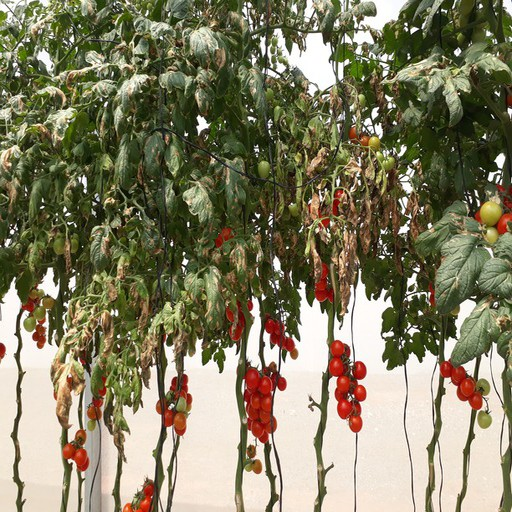dry leaves: (302, 135, 395, 299), (56, 298, 113, 428)
mixed tomato bunch: (23, 288, 56, 350), (159, 375, 192, 436)
red tomato bunch: (325, 341, 368, 434), (241, 364, 284, 444), (463, 201, 512, 248), (437, 358, 482, 409), (262, 301, 299, 363), (222, 293, 253, 346), (64, 427, 91, 473), (119, 479, 156, 512), (314, 263, 338, 304), (209, 228, 241, 256)
